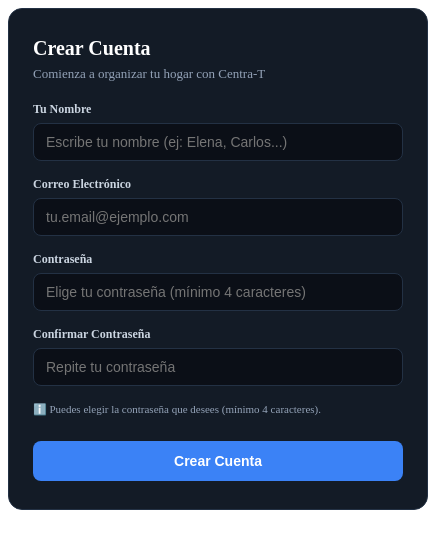
Scenario: PVF-A02.01 · RegisterTab (Componente de Registro y Caso Forense VV-009) › debe bloquear el envío y mostrar error inline cuando las contraseñas no coinciden (Caso Forense VV-009)
In the field labelled "Correo Electrónico": (218, 217) [33,198,403,236], type "elena@example.com"
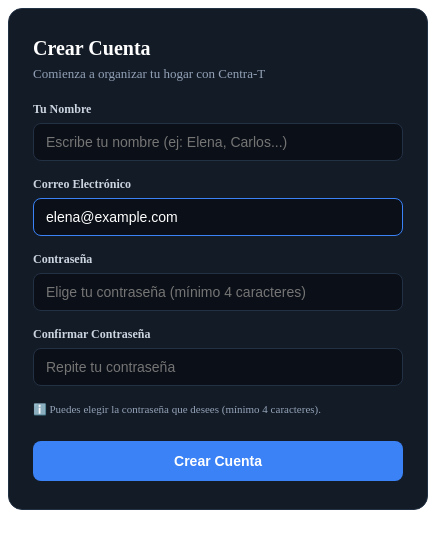
In the password field labelled "Contraseña": (218, 292) [33,273,403,311], type "Password123!"
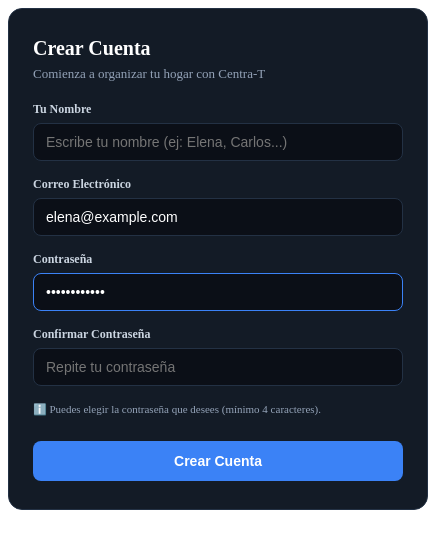
In the password field labelled "Confirmar Contraseña": (218, 367) [33,348,403,386], type "Password999!"
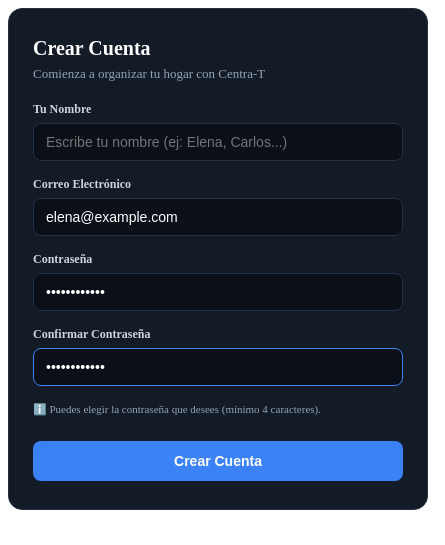
Click the button "Crear Cuenta": (218, 461) [33,441,403,481]
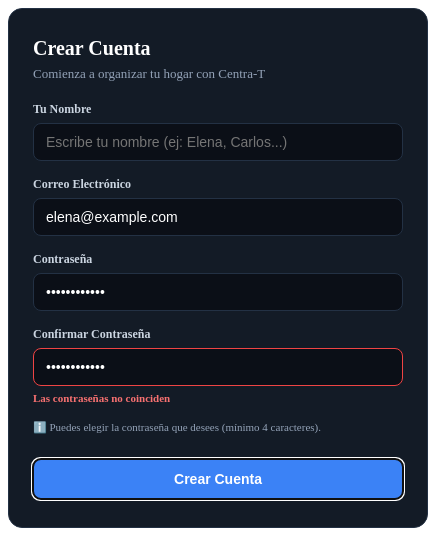
Result: the text "Las contraseñas no coinciden" is shown at [33,392,170,404]
